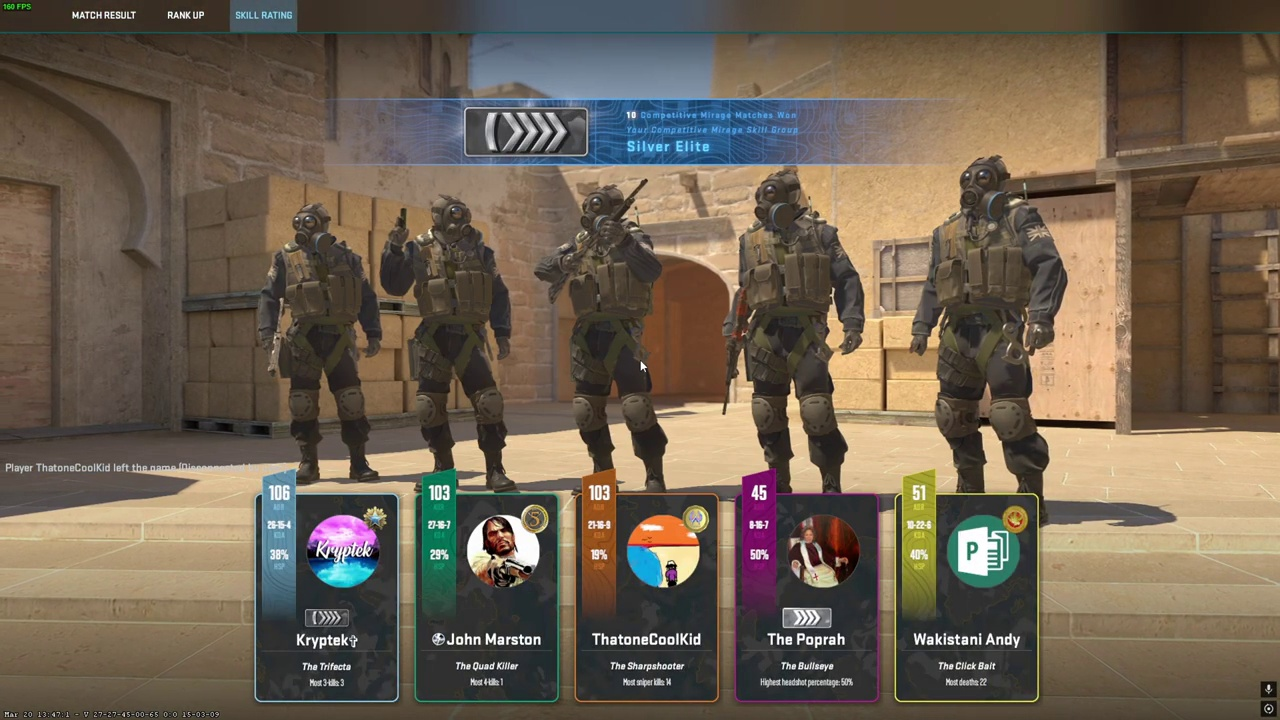CT: (923, 156, 1054, 521), (729, 169, 848, 495), (560, 184, 666, 498), (402, 195, 509, 491), (274, 203, 375, 484)
